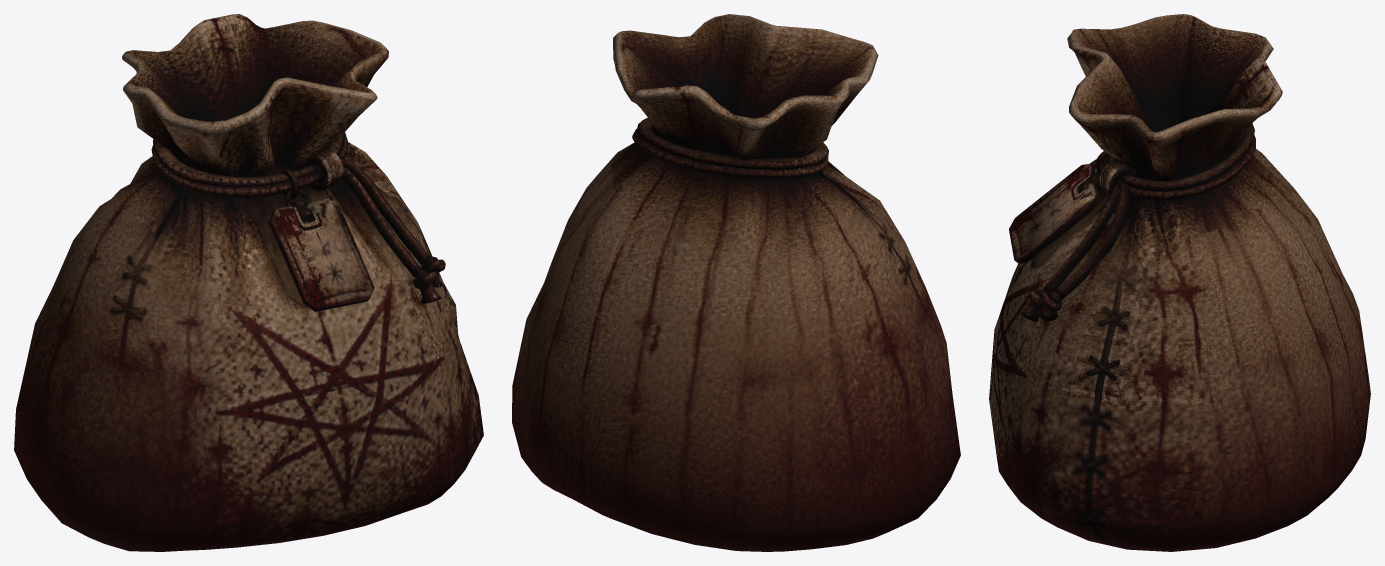
The model's file is Bolsa.glb.
The picture shows the model from 3 angles, left to right: view 1: azimuth 30°, elevation 25°; view 2: azimuth 150°, elevation 25°; view 3: azimuth 270°, elevation 25°; orthographic projection. The views are drawn at different scales.
Visible parts, largest first — view 1: tripo_node_7e0b011d-3bef-4d74-80a5-a587bd82c9fa; view 2: tripo_node_7e0b011d-3bef-4d74-80a5-a587bd82c9fa; view 3: tripo_node_7e0b011d-3bef-4d74-80a5-a587bd82c9fa.
Boxes of the visible parts, box(x1,y1,x2,y2) form: tripo_node_7e0b011d-3bef-4d74-80a5-a587bd82c9fa: box(14, 14, 483, 551); tripo_node_7e0b011d-3bef-4d74-80a5-a587bd82c9fa: box(512, 14, 960, 551); tripo_node_7e0b011d-3bef-4d74-80a5-a587bd82c9fa: box(989, 14, 1370, 551).
Bounding box in the file's own units: 0.9551 × 0.998 × 0.8301.
1 material, 1 textured.
